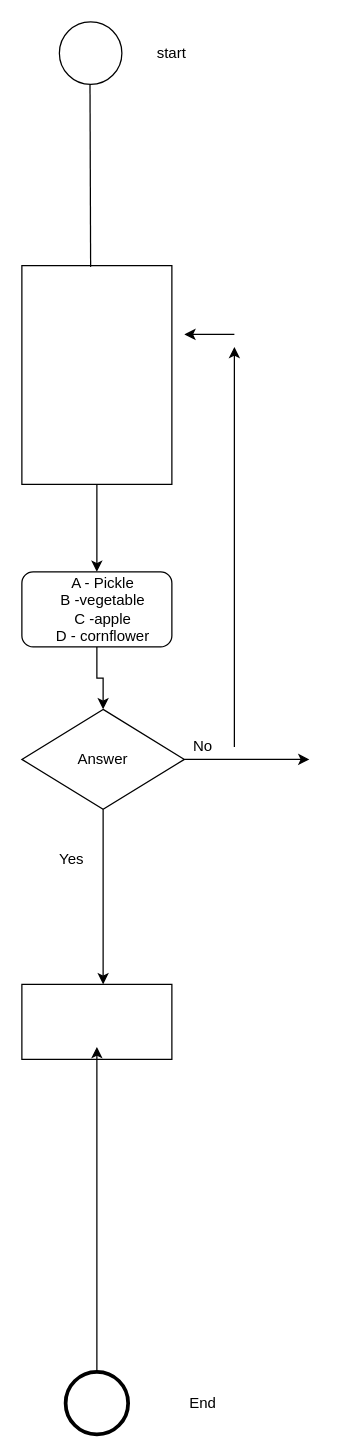
This 341x1456 diagram has some shape labels left out. Here are the shapes that lost their labels. From the top down, the centre of each, then its label:
At [96,374]: "Waiting for the answer".
At [96,1021]: "angela submits answer to teacher".
